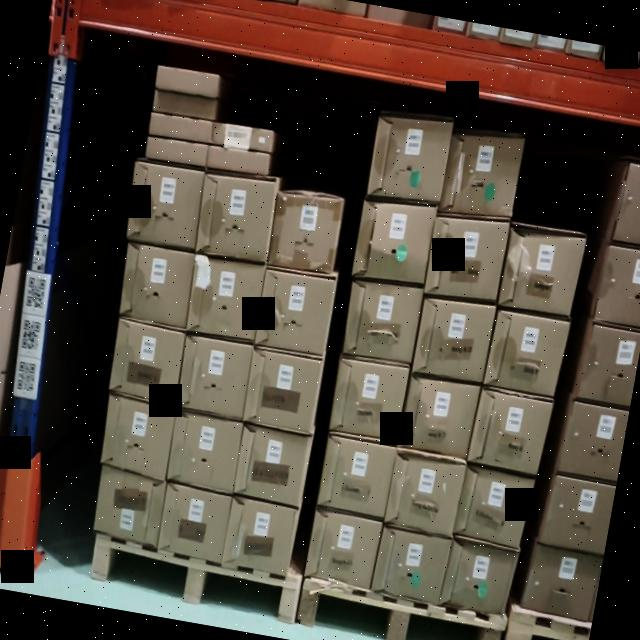box: (498, 221, 586, 317), (440, 127, 524, 220), (425, 213, 507, 304), (255, 265, 336, 356), (353, 196, 436, 284), (194, 174, 277, 260), (368, 114, 451, 200), (412, 297, 494, 383), (486, 310, 566, 398), (342, 279, 424, 363), (384, 452, 466, 536), (468, 388, 550, 472), (125, 162, 205, 248), (329, 358, 409, 442), (242, 350, 322, 432), (400, 374, 479, 456), (108, 321, 186, 404), (318, 435, 396, 517), (188, 256, 264, 340), (232, 426, 310, 507), (175, 334, 252, 416), (118, 244, 194, 326), (266, 192, 342, 272), (304, 511, 382, 588), (524, 543, 600, 621), (370, 528, 450, 602), (167, 414, 242, 491), (156, 485, 232, 560), (455, 468, 531, 543), (222, 499, 296, 576), (544, 474, 616, 553), (439, 540, 514, 614), (102, 396, 175, 472), (562, 400, 628, 482), (93, 471, 165, 541), (580, 323, 640, 404), (596, 246, 640, 327), (210, 120, 273, 154), (207, 145, 270, 177), (150, 112, 212, 144), (153, 90, 217, 120), (618, 162, 640, 247), (156, 66, 218, 95), (145, 138, 207, 165)
